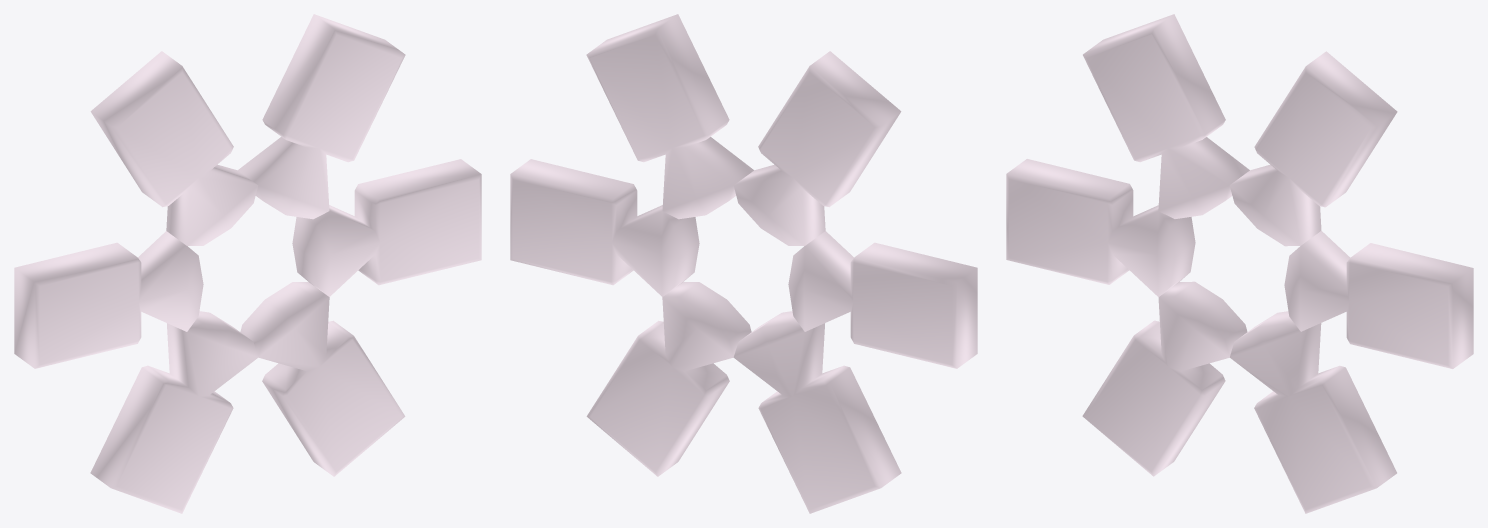
The model's file is ps2_save-icons_virtualrtc.glb.
3 renders of one model, left to right at view 1: azimuth 30°, elevation 25°; view 2: azimuth 150°, elevation 25°; view 3: azimuth 330°, elevation 25°, orthographic.
Visible parts, largest first — view 1: icon.ico; view 2: icon.ico; view 3: icon.ico.
Part boxes in pixels (bbox=[...]): icon.ico: bbox=[14, 14, 481, 513]; icon.ico: bbox=[510, 14, 977, 513]; icon.ico: bbox=[1006, 14, 1473, 513].
Bounding box in the file's own units: 4.18 × 4 × 0.3696.
1 material, 1 textured.
